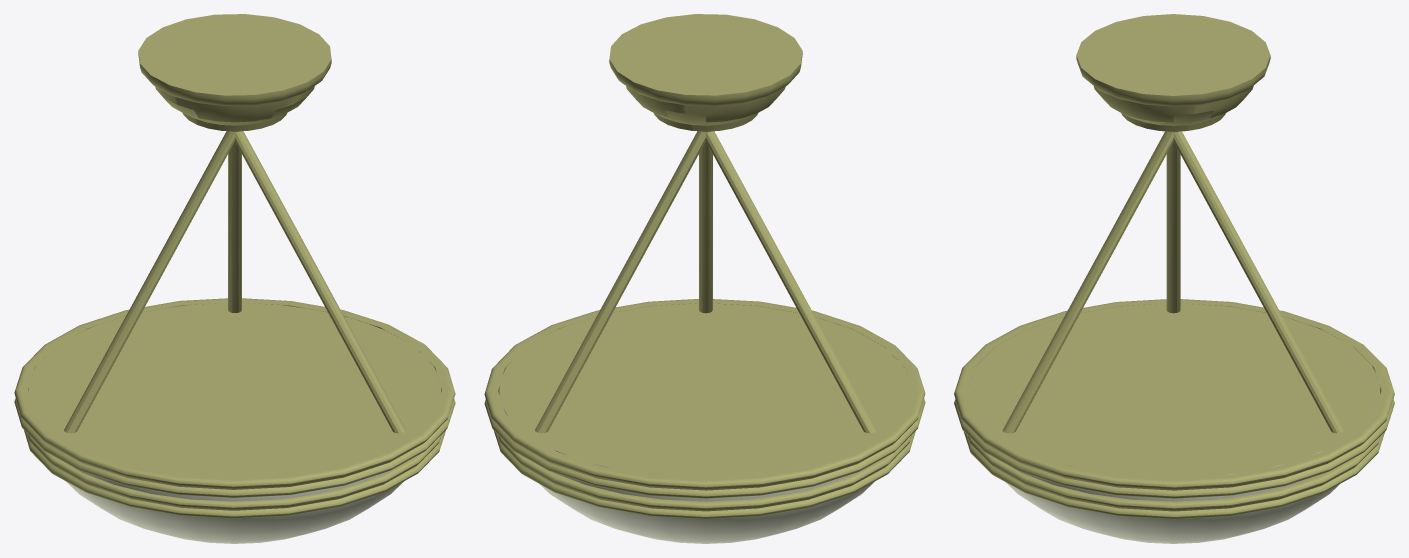
File: hangingLight.obj
3 renders of one model, left to right at view 1: azimuth 30°, elevation 25°; view 2: azimuth 150°, elevation 25°; view 3: azimuth 270°, elevation 25°, orthographic.
Parts seen in each view (by area): view 1: ltgold_2_2, ltglass_1_1; view 2: ltgold_2_2, ltglass_1_1; view 3: ltgold_2_2, ltglass_1_1.
Part boxes in pixels (box(x1,y1,x2,y2)): ltgold_2_2: box(14, 14, 455, 518); ltglass_1_1: box(63, 411, 435, 543); ltgold_2_2: box(484, 14, 925, 518); ltglass_1_1: box(503, 407, 874, 543); ltgold_2_2: box(954, 14, 1394, 519); ltglass_1_1: box(1005, 408, 1375, 543).
Bounding box in the file's own units: 32.32 × 37.18 × 32.32.
